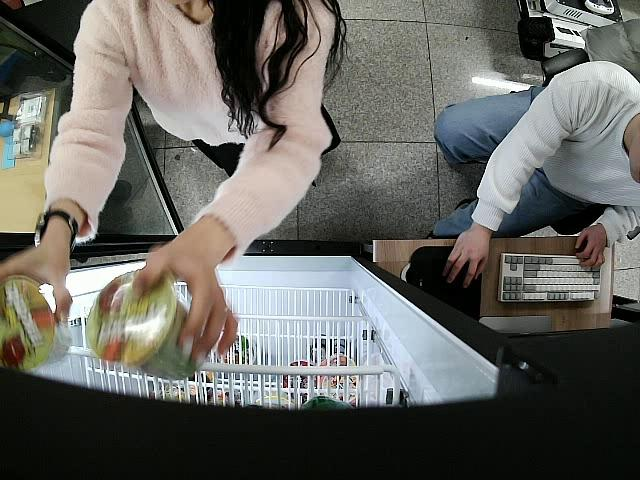00_hand: (133, 222, 239, 374), (0, 224, 74, 327), (441, 229, 489, 286), (574, 226, 609, 272)
04_chapagetti_S: (85, 267, 205, 383), (0, 273, 75, 374)
